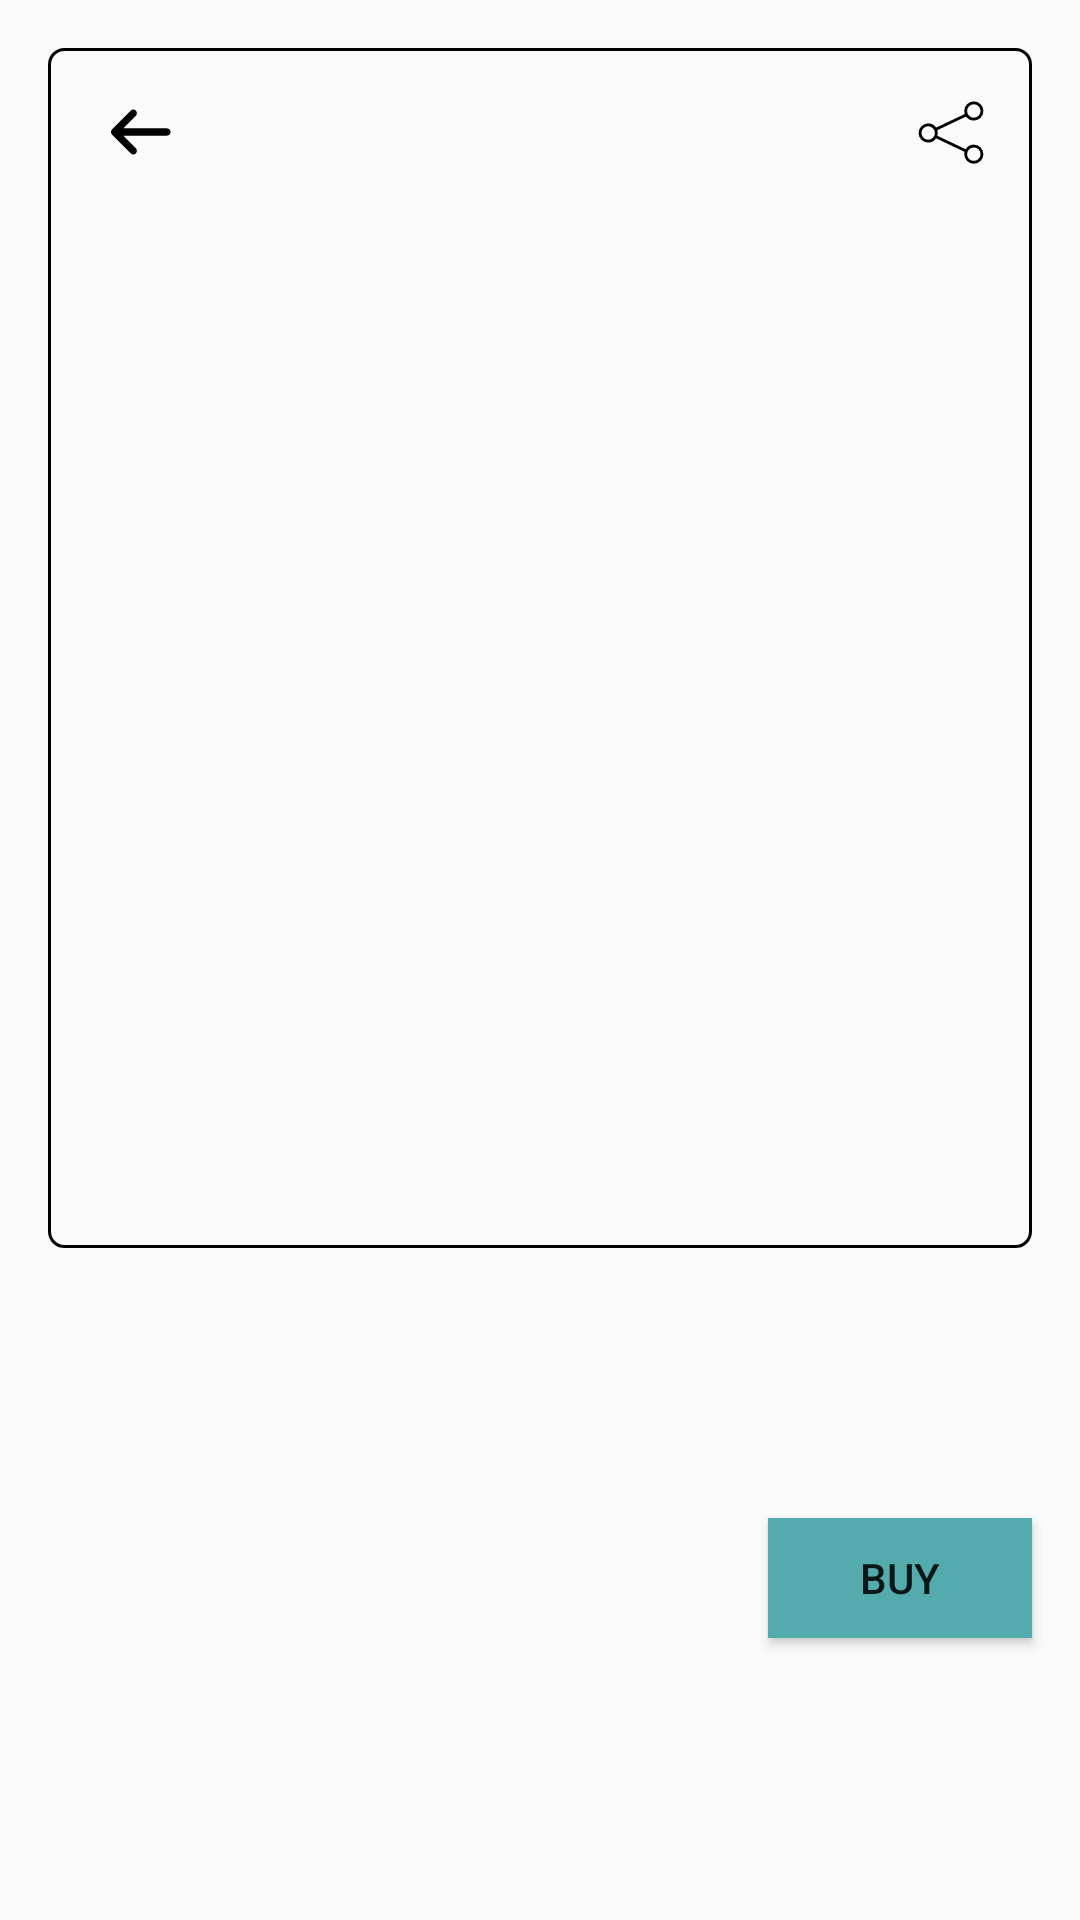

Named icons in this screenshot (1080px x 1920px) and their bounding boxes, [x1, y1, x2, y2]:
back: [111, 109, 171, 155]
share: [918, 101, 984, 164]
